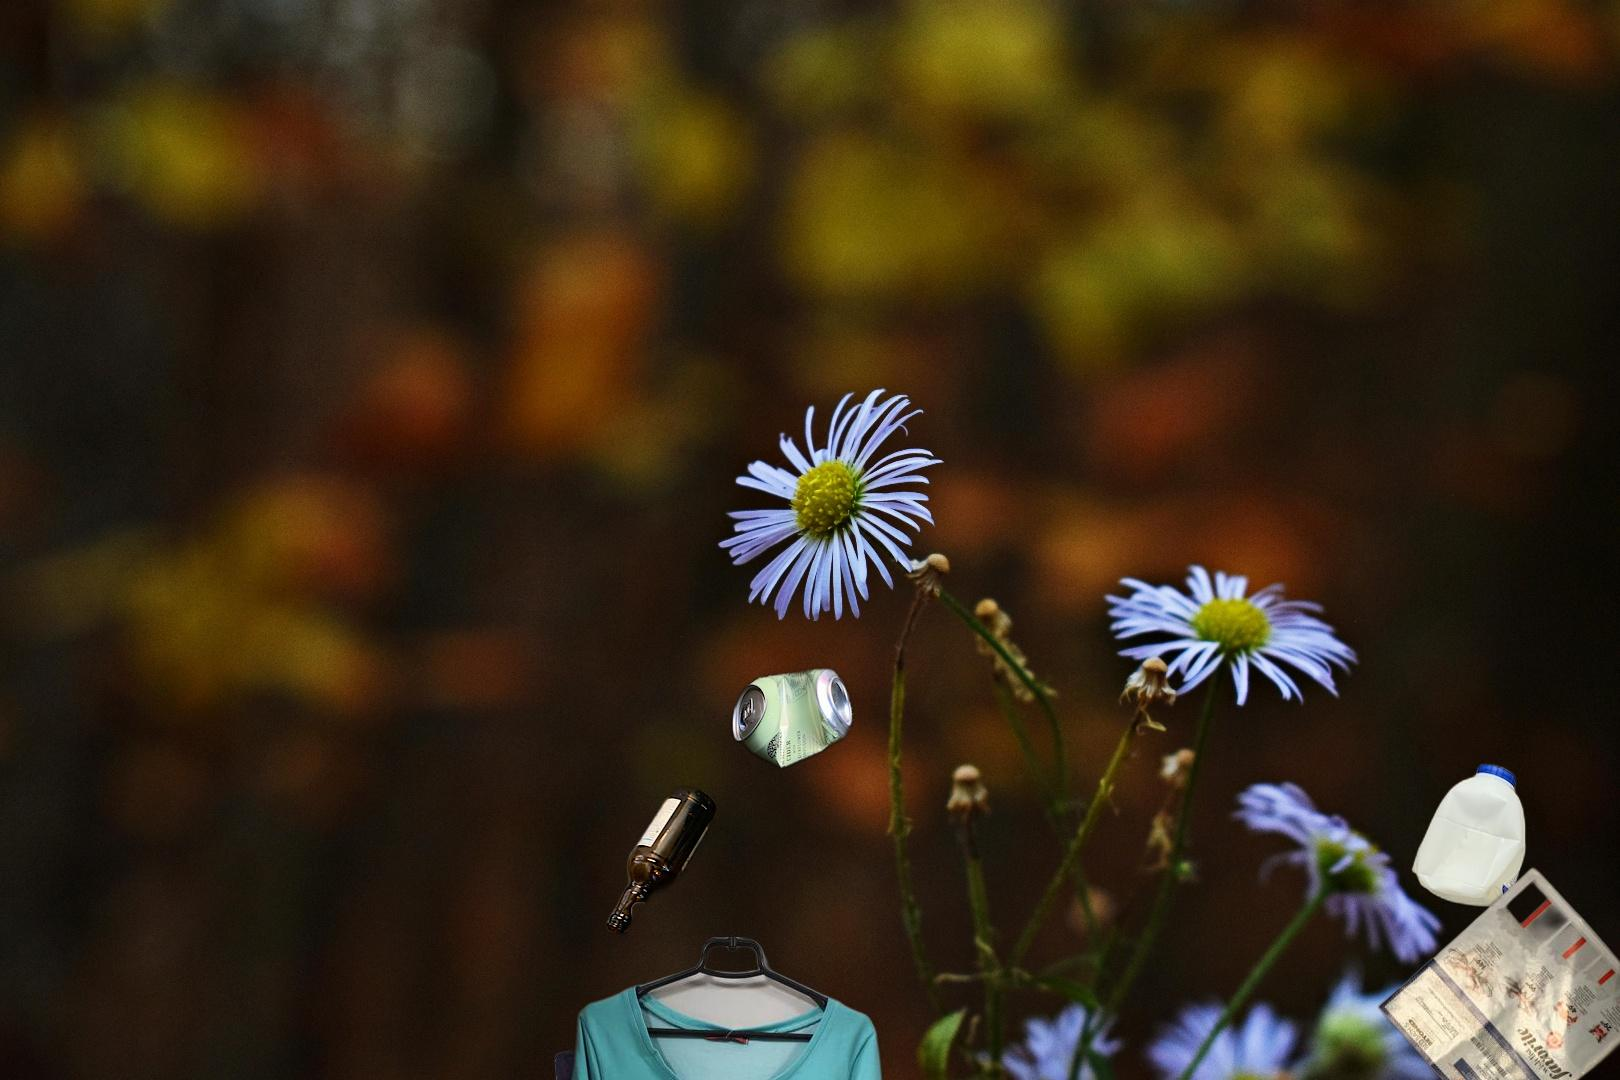clothes: (532, 937, 896, 1080), (522, 1038, 755, 1080)
glass: (601, 782, 722, 946)
metal-cans: (714, 662, 905, 1074)
paper: (1374, 864, 1620, 1080)
plastic-bottles: (1407, 758, 1531, 914)
trashbox-cardboard: (1534, 997, 1620, 1080)
